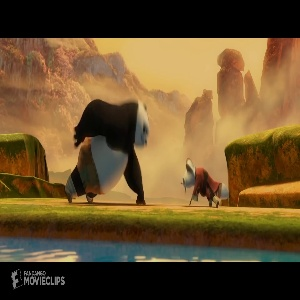po: (61, 96, 153, 207)
shifu: (178, 157, 225, 209)
